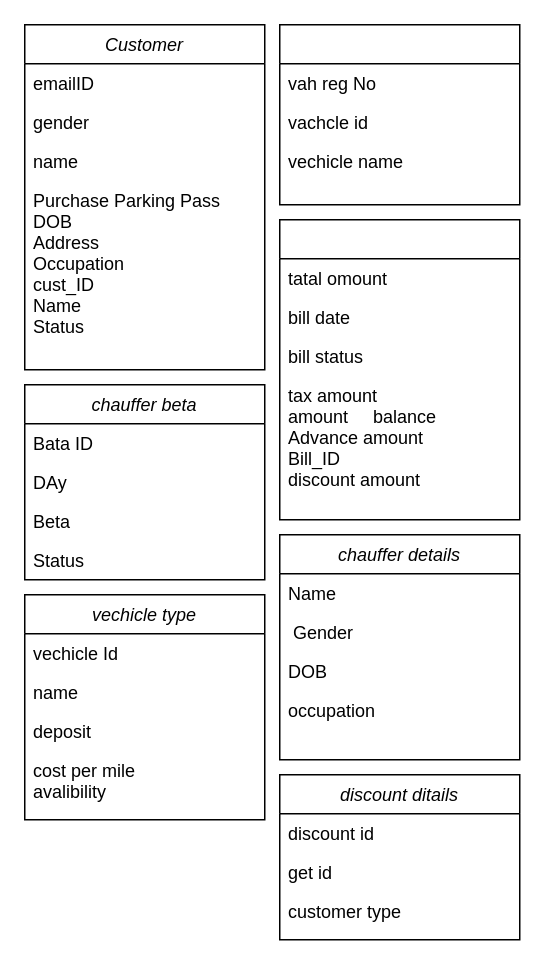
The diagram is 545 pixels wide and 965 high, and some of its shapes have lost their labels. The shapes that lost their labels are listed below. From the top down, each one's box as (x1, y1, x2, y2) in pixels, then its label:
(278, 23, 520, 205): VAechicle details
(278, 218, 520, 520): Billing
